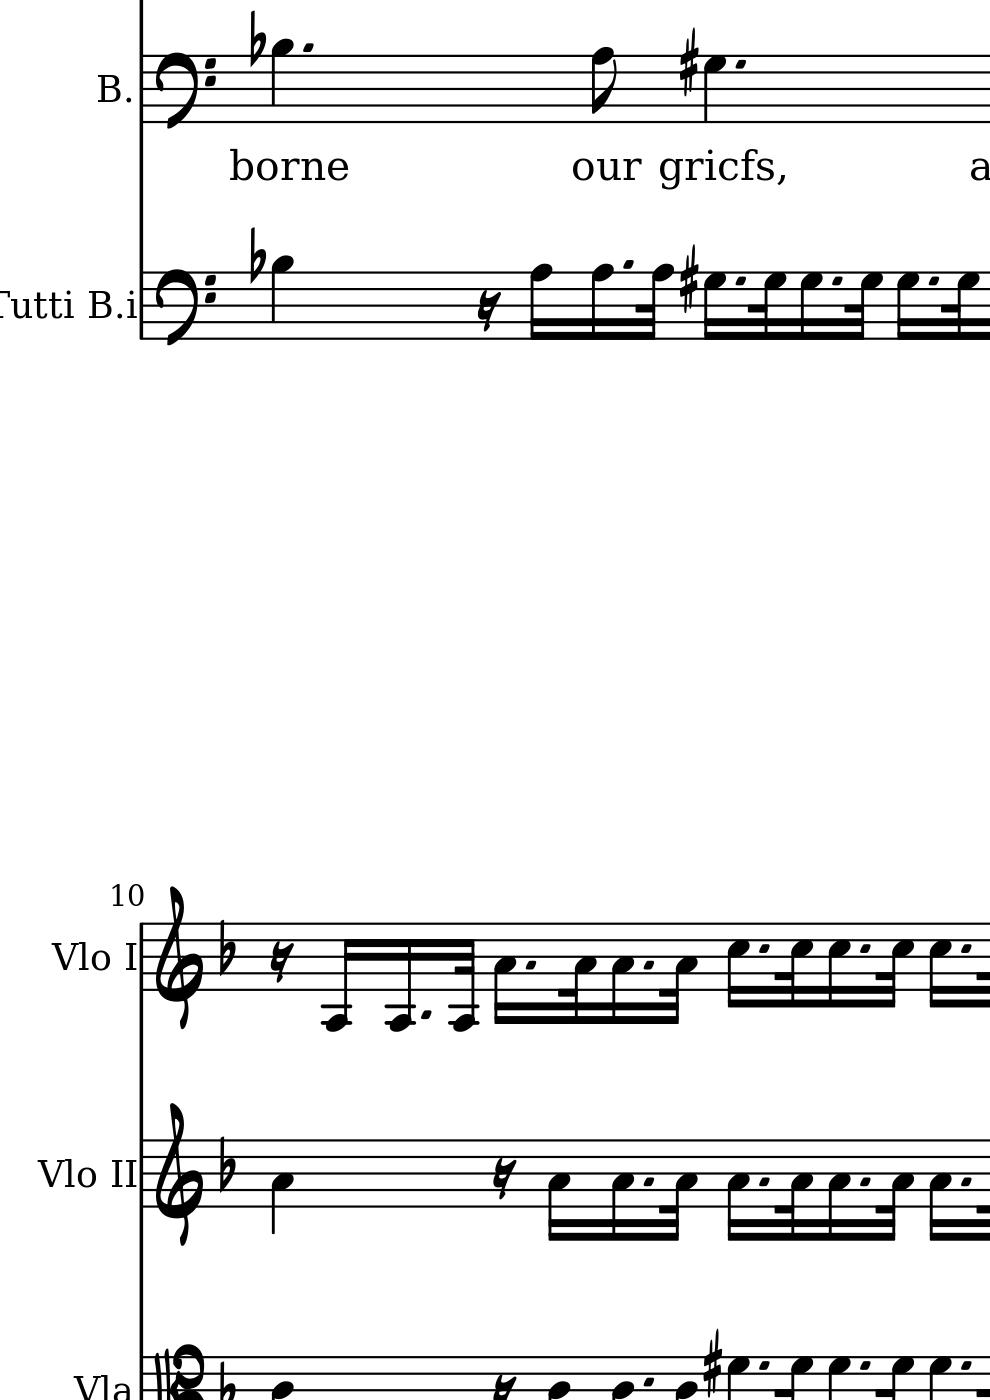0: (125, 880, 145, 910)
1: (110, 880, 125, 909)
16_-4: (320, 921, 359, 1034), (385, 919, 416, 1034)
16_3: (609, 921, 636, 1026), (609, 1138, 636, 1243), (826, 1136, 852, 1244), (492, 921, 517, 1026), (927, 1138, 952, 1243), (725, 1138, 751, 1241), (546, 1140, 572, 1241)
16_5: (724, 921, 751, 1010), (927, 922, 952, 1010), (826, 922, 852, 1009)
16_7: (895, 270, 921, 343), (702, 270, 727, 343), (798, 270, 824, 342)
16_8: (528, 262, 554, 344), (589, 262, 615, 343)
32_-4: (448, 920, 478, 1032)
32_3: (874, 1136, 916, 1241), (775, 1135, 813, 1240), (659, 1136, 697, 1240), (661, 919, 699, 1025), (559, 920, 597, 1024)
32_5: (775, 922, 815, 1009), (876, 922, 916, 1010)
32_7: (749, 270, 787, 342), (943, 270, 981, 342), (847, 271, 884, 343)
4_3: (269, 1136, 296, 1234)
4_7: (702, 52, 727, 124)
4_9: (269, 37, 296, 126), (269, 252, 295, 343)
8_8: (589, 46, 618, 126)
Fclef: (152, 267, 223, 351), (153, 51, 223, 131)
Flat: (215, 1133, 239, 1195), (215, 917, 238, 978), (246, 225, 266, 287), (247, 7, 266, 70)
Gclef: (154, 1101, 205, 1249), (155, 884, 205, 1029)
Rests16: (475, 290, 502, 334), (491, 1157, 517, 1201), (268, 940, 294, 984)
Sharp: (677, 26, 700, 97), (678, 243, 700, 314)
Single_barline: (134, 55, 150, 123), (136, 272, 152, 338), (136, 1139, 151, 1209), (136, 923, 151, 991)
Vla: (73, 1369, 133, 1400)
dot: (854, 942, 875, 955), (731, 56, 748, 72), (755, 1174, 772, 1190), (754, 940, 772, 955), (956, 942, 974, 957), (640, 1374, 656, 1390), (620, 256, 635, 273), (639, 1175, 656, 1190), (957, 1358, 974, 1373), (925, 273, 941, 288), (522, 958, 538, 973), (755, 1358, 771, 1373), (828, 273, 845, 287), (857, 1175, 872, 1190), (856, 1359, 871, 1374), (639, 958, 655, 972), (300, 40, 315, 54), (732, 273, 747, 287), (418, 1008, 433, 1022)
